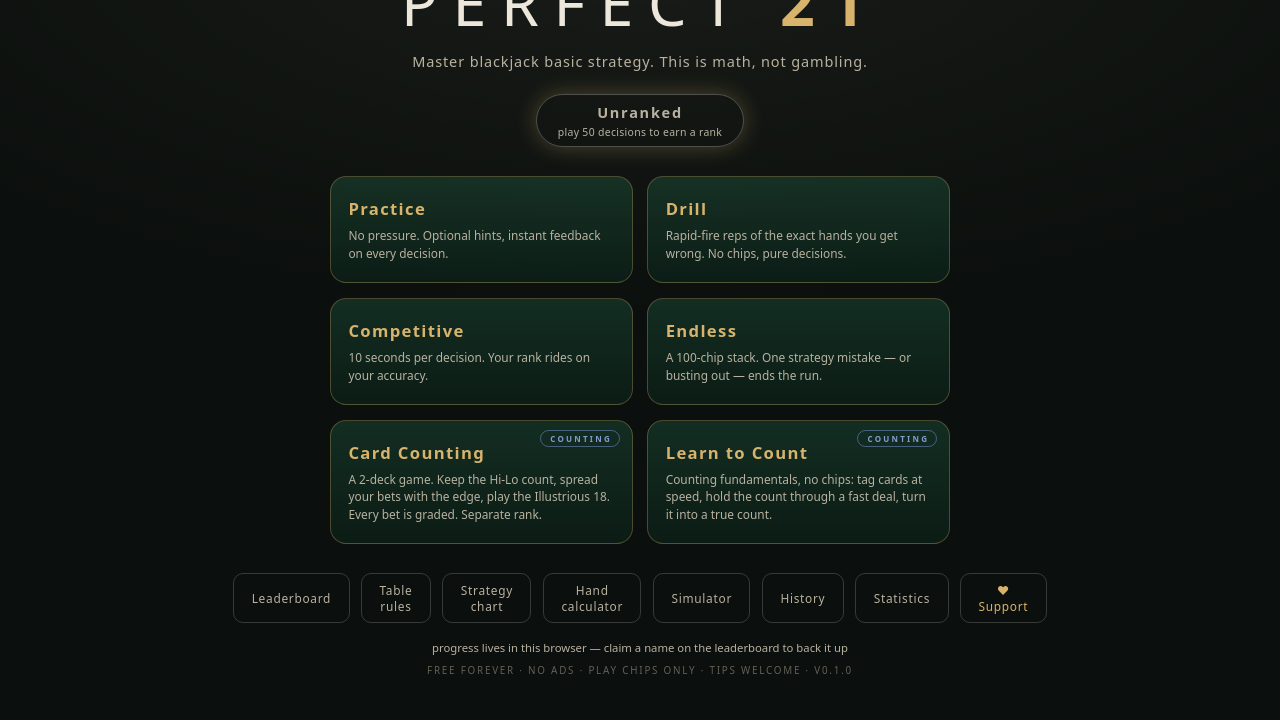
Test: Perfect 21 app › opens the rules dialog and saves a rule change
(page scrolled)
Click the button "Table rules" at point(396, 598), box left=361, top=573, right=431, bottom=623
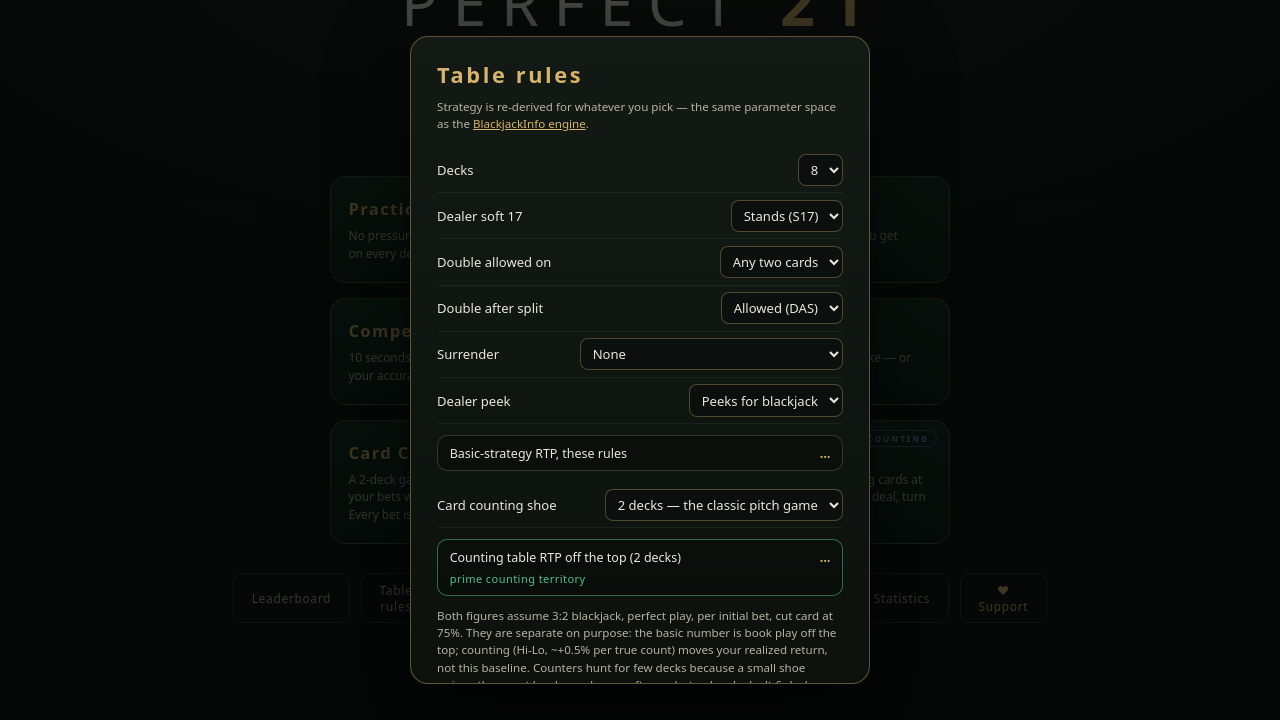
Select "Hits (H17)" in the dropdown showing "Stands (S17)" at point(787, 216), box left=731, top=200, right=843, bottom=232
(page scrolled)
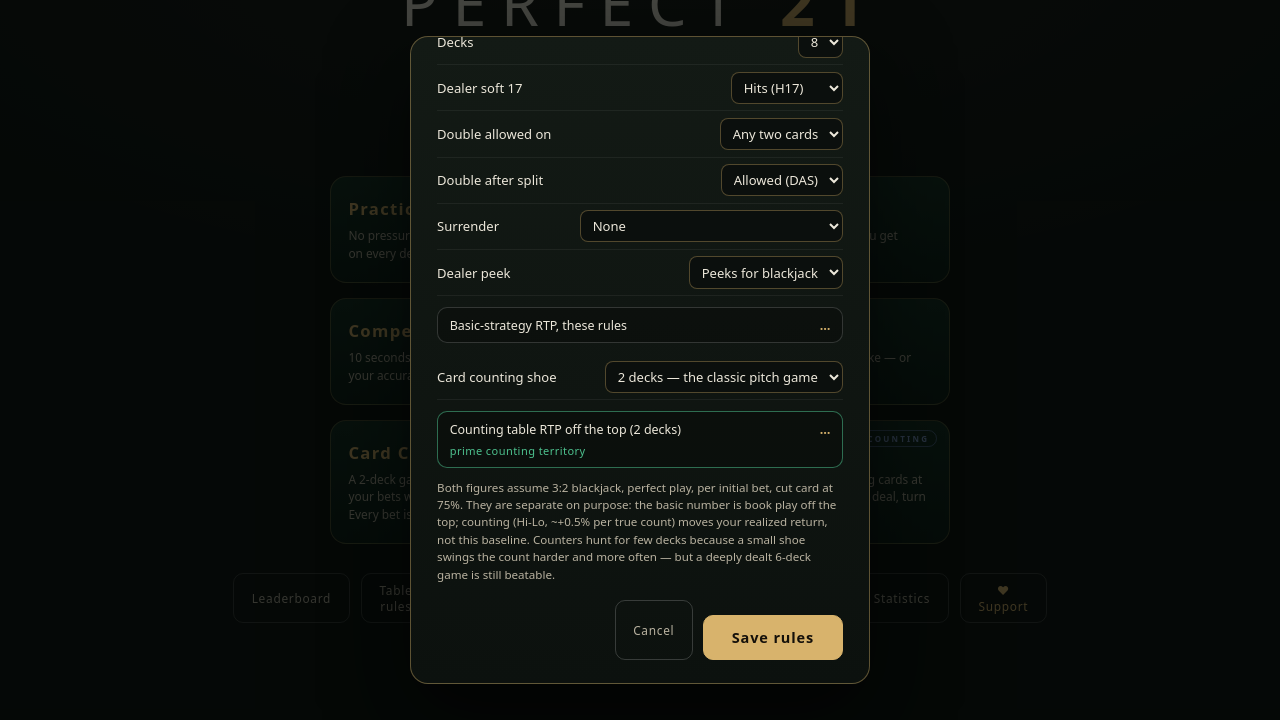
Click the button "Save rules" at point(773, 637), box left=703, top=615, right=843, bottom=660
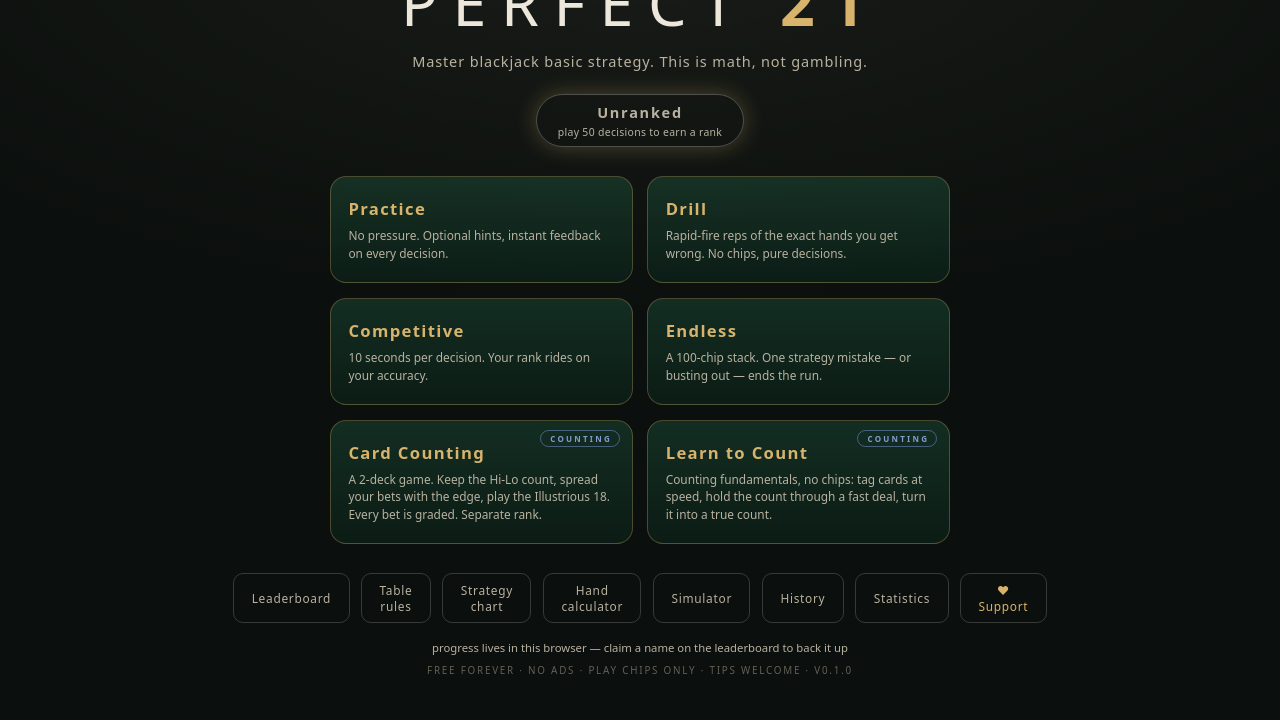
Click the button "Table rules" at point(396, 598), box left=361, top=573, right=431, bottom=623
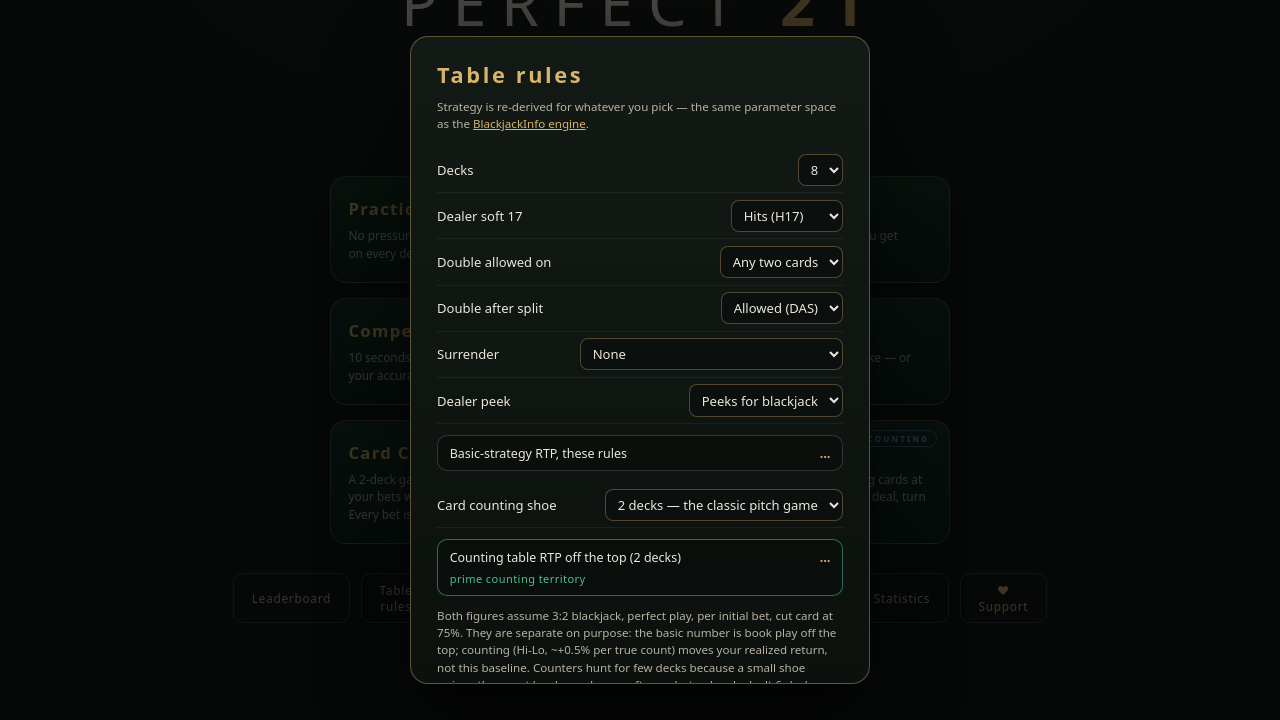
expect the dropdown showing "Hits (H17)" is shown: met, box left=731, top=200, right=843, bottom=232
